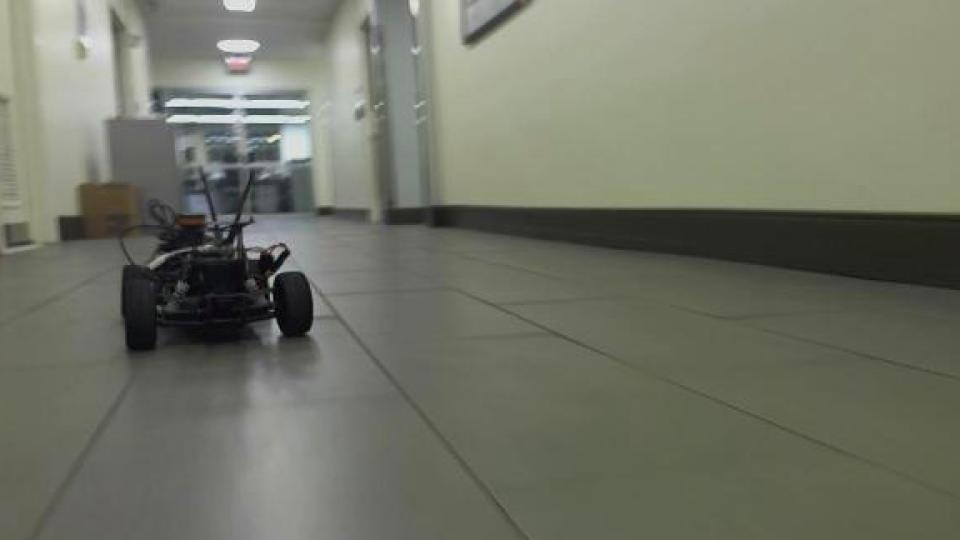car: (113, 164, 317, 354)
